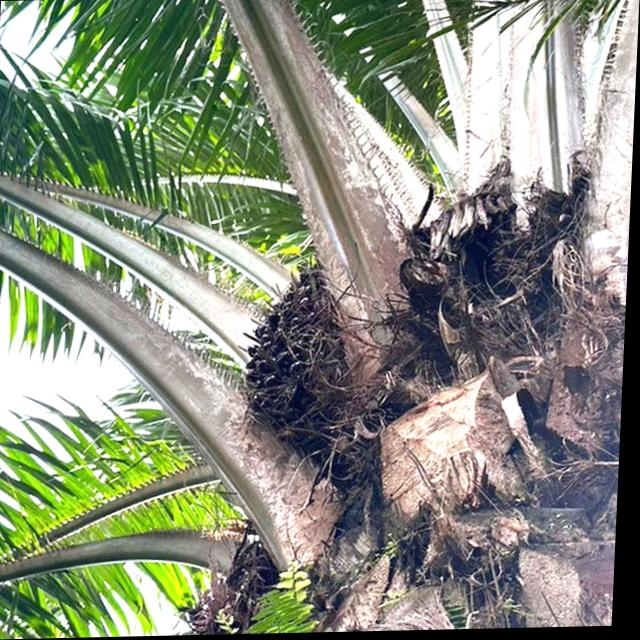almost: (230, 253, 368, 444)
